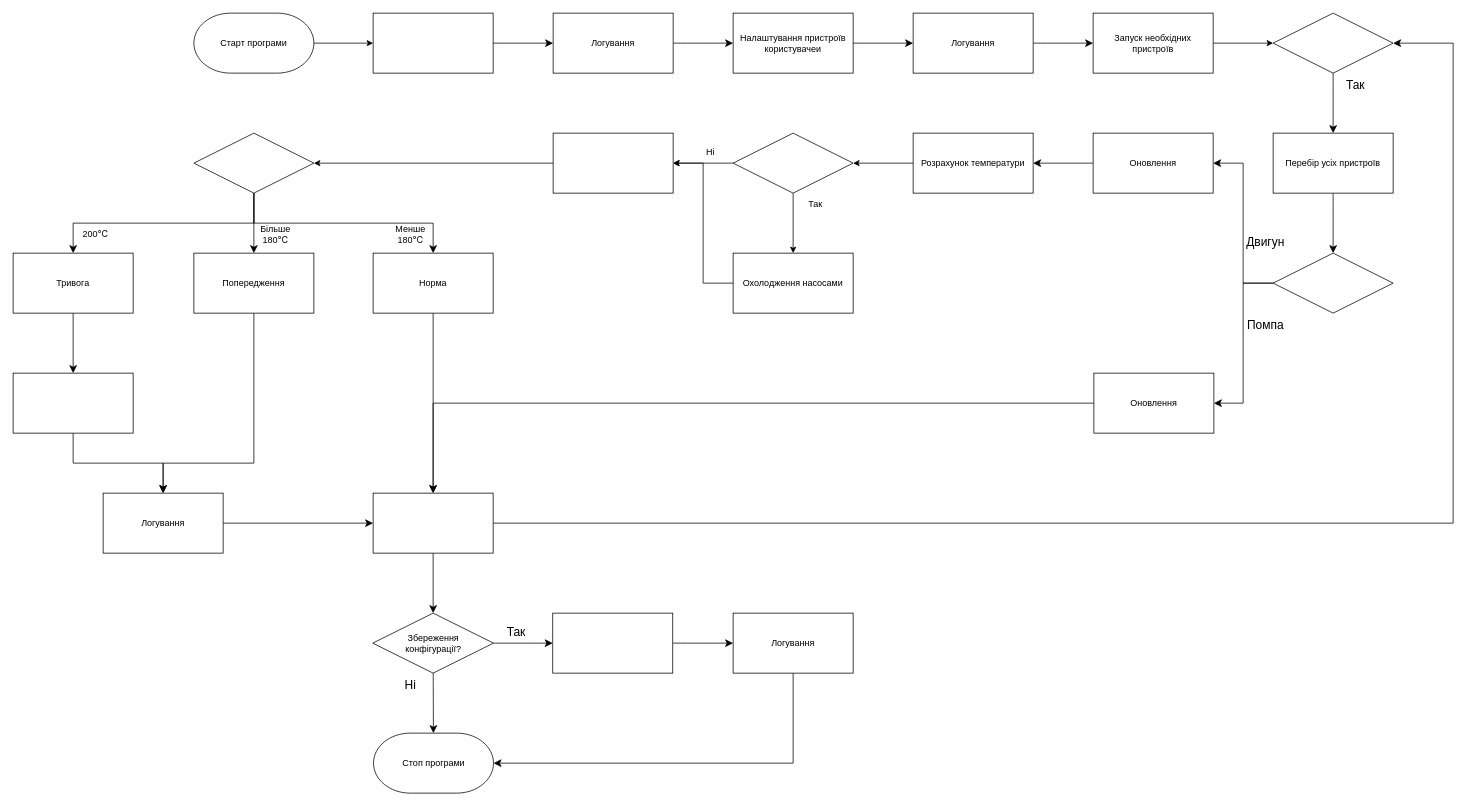
Image size: 1474x806. Some labels were removed from this diagram. Here are the shapes that lost their labels. From the top down, the box of each, then its label:
(372, 12, 493, 73): Завантаження збереженої конфігурації або Додавання пристроїв користувачам
(1272, 12, 1393, 73): Тік таймера?
(193, 132, 314, 193): Перевірка температурного порогу
(552, 132, 673, 193): Згладжування температури
(732, 132, 853, 193): Є прив'язані насоси?
(1272, 252, 1393, 313): Тип пристрою?
(12, 372, 133, 433): Аварійне зупинення
(372, 492, 493, 553): Оновлення UI
(552, 612, 673, 673): Конфігурацію збережено
